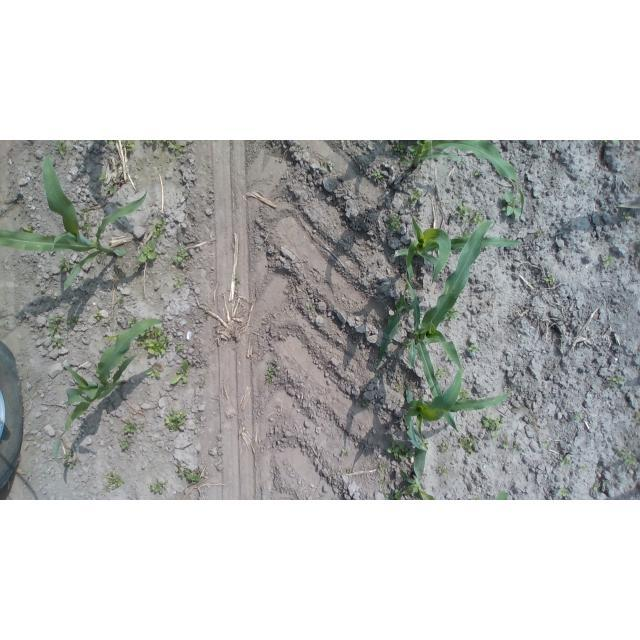Maize: (377, 219, 495, 431), (2, 153, 159, 290), (47, 313, 174, 467), (378, 363, 525, 451), (387, 214, 526, 282), (385, 446, 511, 500), (398, 140, 526, 185)
Weeds: (146, 327, 171, 358), (500, 190, 525, 221), (146, 140, 186, 157), (452, 204, 482, 225), (164, 409, 192, 431), (176, 462, 204, 482), (171, 359, 191, 387), (614, 446, 638, 467), (136, 241, 157, 264), (118, 420, 147, 436), (386, 443, 411, 461), (100, 174, 118, 199), (480, 412, 501, 433), (389, 485, 418, 500), (457, 434, 479, 453), (103, 471, 126, 489), (48, 313, 66, 335), (152, 218, 170, 240), (386, 214, 407, 232), (172, 247, 193, 265), (107, 140, 137, 152), (146, 477, 168, 493), (263, 359, 278, 382), (49, 335, 68, 353), (405, 188, 425, 205), (78, 211, 92, 235), (606, 371, 624, 389), (142, 366, 165, 380), (56, 258, 76, 274), (442, 306, 462, 322), (63, 450, 78, 470), (601, 254, 618, 271), (119, 438, 138, 451), (54, 142, 70, 157), (465, 341, 479, 358), (66, 314, 79, 331), (169, 276, 185, 289), (589, 480, 603, 493), (558, 487, 574, 498), (543, 273, 557, 285), (434, 368, 448, 380), (557, 454, 571, 466), (597, 141, 620, 148), (395, 142, 408, 154), (174, 341, 186, 354), (437, 441, 448, 454), (622, 209, 632, 223), (373, 171, 383, 184), (360, 401, 373, 411), (22, 225, 38, 233), (375, 463, 386, 474), (340, 449, 352, 459), (471, 169, 484, 178), (571, 412, 581, 423), (437, 466, 449, 475), (197, 378, 207, 388), (94, 311, 103, 322), (232, 274, 241, 285), (512, 445, 522, 454), (326, 161, 335, 171), (306, 304, 315, 314), (192, 417, 201, 426), (328, 470, 338, 478), (394, 384, 403, 392), (382, 492, 391, 500), (533, 229, 543, 236), (540, 438, 548, 446), (378, 479, 387, 486), (501, 443, 510, 449), (345, 468, 354, 474), (491, 432, 498, 437)
